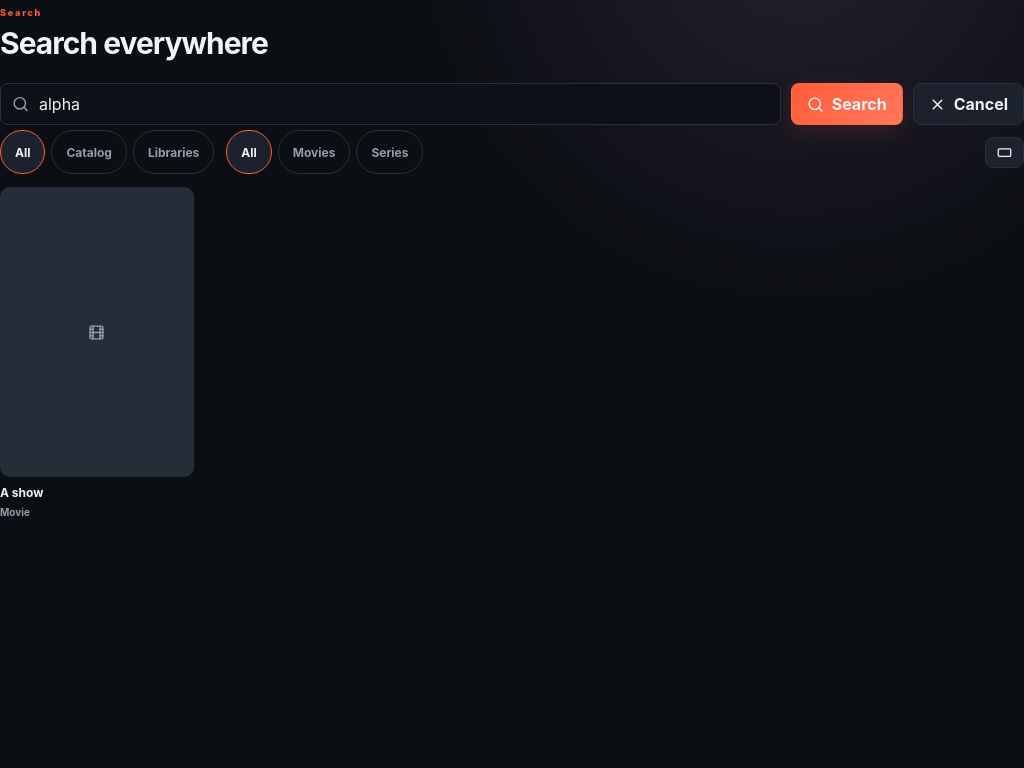
it: SearchEverywhere › asks where to open a title without a shared id, with episode ranges and conflicts
The width and height of the screenshot is (1024, 768).
Click the button "A show Movie".
click(97, 354)  # box [0,187,194,520]
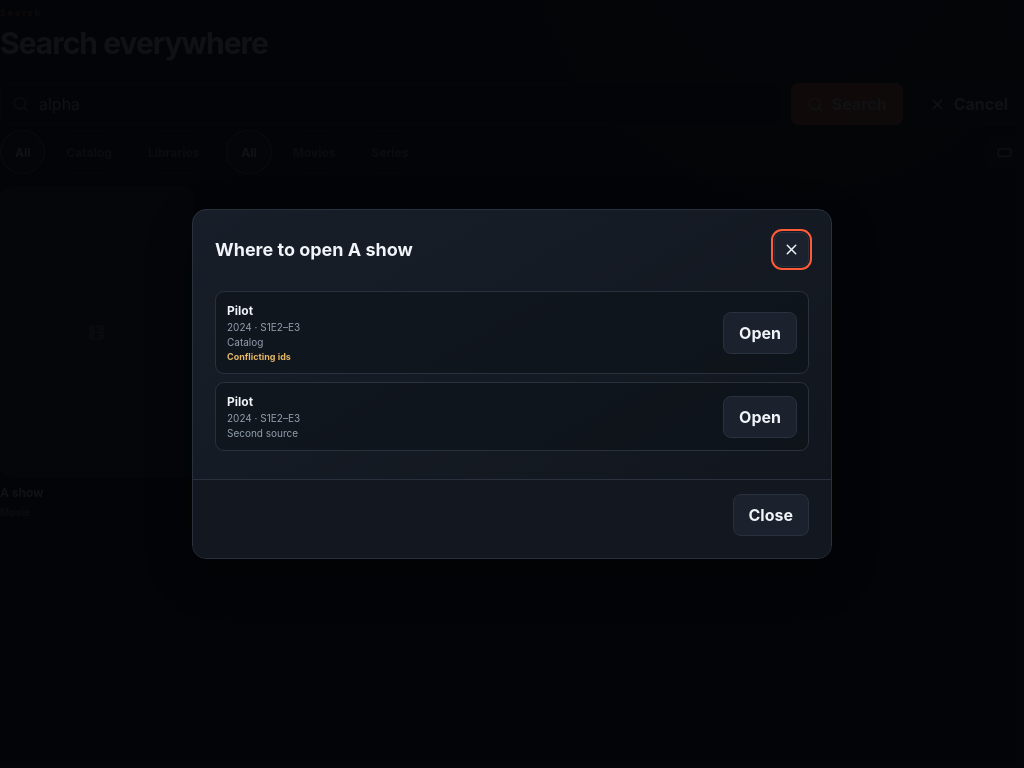
Expected: the text "Where to open A show" is shown, [215,239,413,260]
Expected: the text "S1E2–E3" is shown, [227,321,300,333]
Expected: the text "Conflicting ids" is shown, [227,351,291,362]
